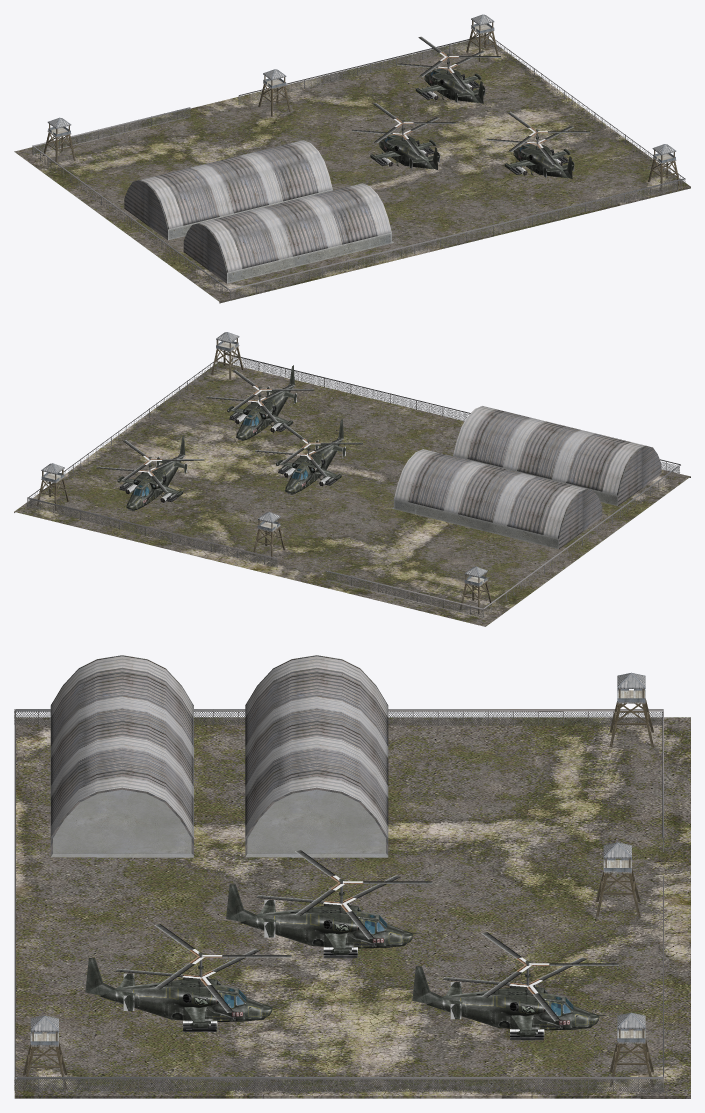
3 views of the same model, one above another, from view 1: azimuth 30°, elevation 25°; view 2: azimuth 150°, elevation 25°; view 3: azimuth 270°, elevation 25° (orthographic). The views are drawn at different scales.
Parts seen in each view (by area): view 1: grunt, hangar_013, hangar_014, Cylinder199, ka-50, ka-052, ka-051, Cylinder196, Cylinder197, Cylinder198, Cylinder195, tower_027 (+3 smaller); view 2: grunt, hangar_014, hangar_013, ka-051, Cylinder196, ka-052, Cylinder199, ka-50, Cylinder197, Cylinder198, Cylinder195, tower_024 (+3 smaller); view 3: grunt, hangar_013, hangar_014, Cylinder195, ka-051, ka-052, ka-50, Cylinder198, tower_027, tower_026, tower_025, tower_024 (+1 smaller).
Boxes of the visible parts, x1,y1,x2,y2 form: grunt: (14,37,690,303); hangar_013: (183,183,394,283); hangar_014: (124,140,332,240); Cylinder199: (230,178,685,298); ka-50: (486,112,589,178); ka-052: (397,36,500,103); ka-051: (352,103,455,169); Cylinder196: (238,34,488,104); Cylinder197: (32,107,190,154); Cylinder198: (32,145,229,297); Cylinder195: (488,35,685,186); tower_027: (258,69,290,116); grunt: (14,361,690,626); hangar_014: (391,449,602,549); hangar_013: (453,406,661,505); ka-051: (255,419,362,494); Cylinder196: (27,497,277,567); ka-052: (96,435,204,511); Cylinder199: (226,353,679,473); ka-50: (206,365,313,440); Cylinder197: (326,570,483,618); Cylinder198: (483,464,680,617); Cylinder195: (28,357,223,506); tower_024: (211,332,243,379); grunt: (14,717,690,1098); hangar_013: (50,655,193,857); hangar_014: (245,655,388,857); Cylinder195: (14,1075,663,1091); ka-051: (226,850,432,958); ka-052: (412,932,618,1040); ka-50: (85,924,291,1031); Cylinder198: (14,709,663,725); tower_027: (596,842,640,916); tower_026: (609,672,653,747); tower_025: (609,1012,653,1086); tower_024: (23,1015,67,1089).
Size of the model in its own units: 93.9 by 9.68 by 70.92.
